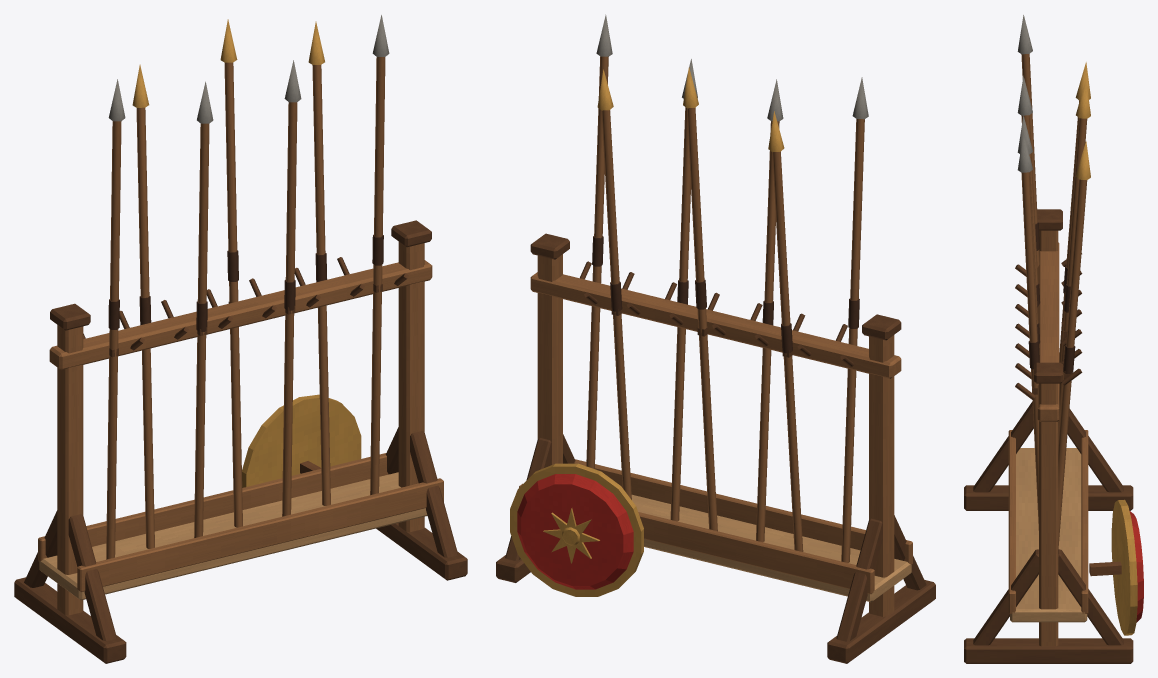
File: rastrelliera_lance.glb
The picture shows the model from 3 angles, left to right: view 1: azimuth 30°, elevation 25°; view 2: azimuth 150°, elevation 25°; view 3: azimuth 270°, elevation 25°; orthographic projection. The views are drawn at different scales.
Visible parts, largest first — view 1: SM_rastrelliera_lance; view 2: SM_rastrelliera_lance; view 3: SM_rastrelliera_lance.
Part boxes in pixels (x1=…): SM_rastrelliera_lance: x1=14, y1=15, x2=467, y2=663; SM_rastrelliera_lance: x1=496, y1=14, x2=935, y2=663; SM_rastrelliera_lance: x1=964, y1=15, x2=1143, y2=663.
Bounding box in the file's own units: 1.64 × 2.32 × 0.7445.
Materials: 1 (1 with a texture image).
